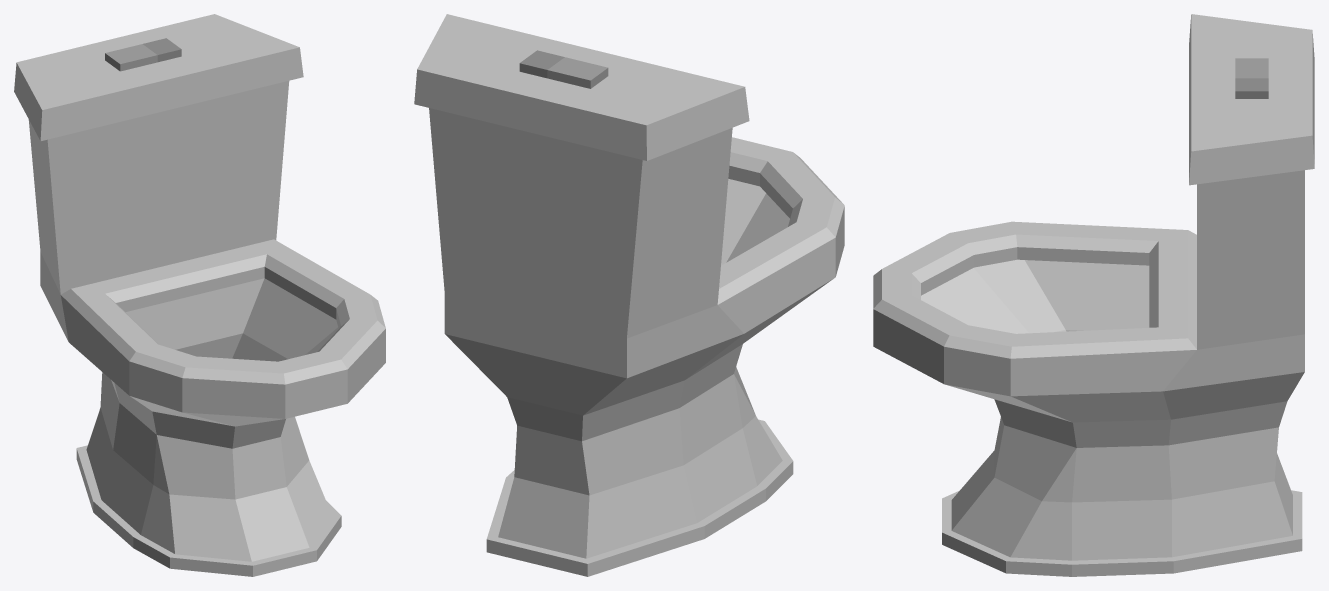
The model's file is Int_RestroomToilet01.fbx.
The picture shows the model from 3 angles, left to right: view 1: azimuth 30°, elevation 25°; view 2: azimuth 150°, elevation 25°; view 3: azimuth 270°, elevation 25°; orthographic projection. The views are drawn at different scales.
Visible parts, largest first — view 1: Int_RestroomToilet01; view 2: Int_RestroomToilet01; view 3: Int_RestroomToilet01.
Boxes of the visible parts, x1,y1,x2,y2 form: Int_RestroomToilet01: [14, 14, 385, 576]; Int_RestroomToilet01: [414, 14, 844, 576]; Int_RestroomToilet01: [873, 14, 1314, 576].
Size of what is drawn, in the model's own units: 74.56 by 99.14 by 112.
